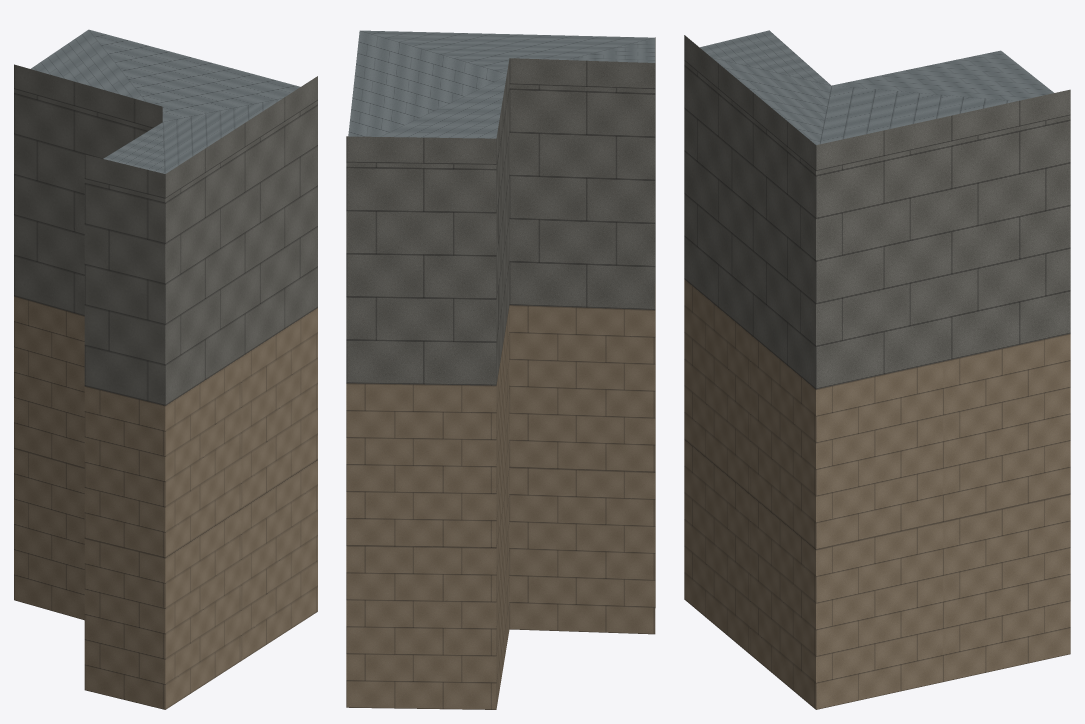
Rendered from bld_c-3_-1_545.gltf.
The picture shows the model from 3 angles, left to right: view 1: azimuth 30°, elevation 25°; view 2: azimuth 150°, elevation 25°; view 3: azimuth 270°, elevation 25°; orthographic projection. The views are drawn at different scales.
Parts seen in each view (by area): view 1: bld_c-3_-1_545; view 2: bld_c-3_-1_545; view 3: bld_c-3_-1_545.
Part boxes in pixels (x1,y1,x2,y2): bld_c-3_-1_545: [14, 29, 317, 709]; bld_c-3_-1_545: [346, 30, 655, 709]; bld_c-3_-1_545: [684, 30, 1070, 709].
Bounding box in the file's own units: 4.13 × 8.28 × 5.13.
4 materials, 4 textured.
